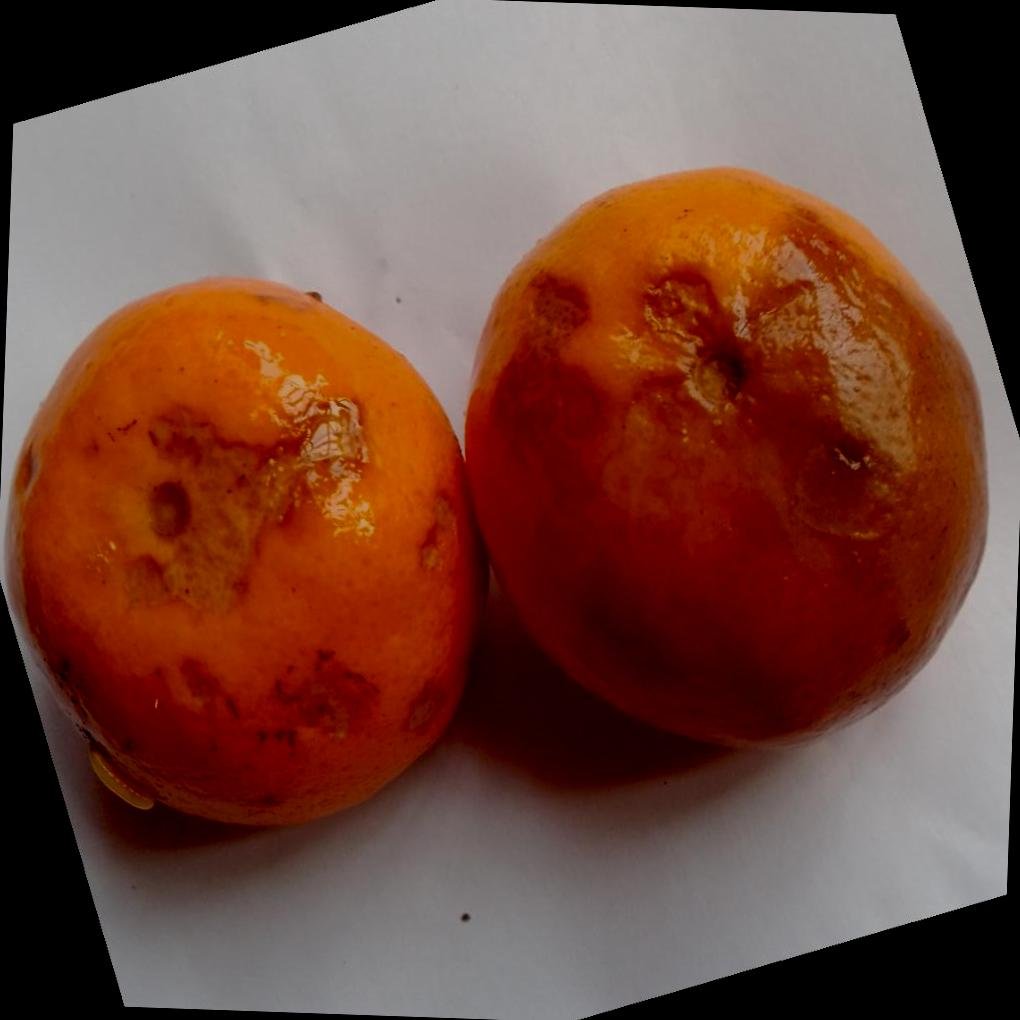FreshOrange: (19, 168, 987, 827)
